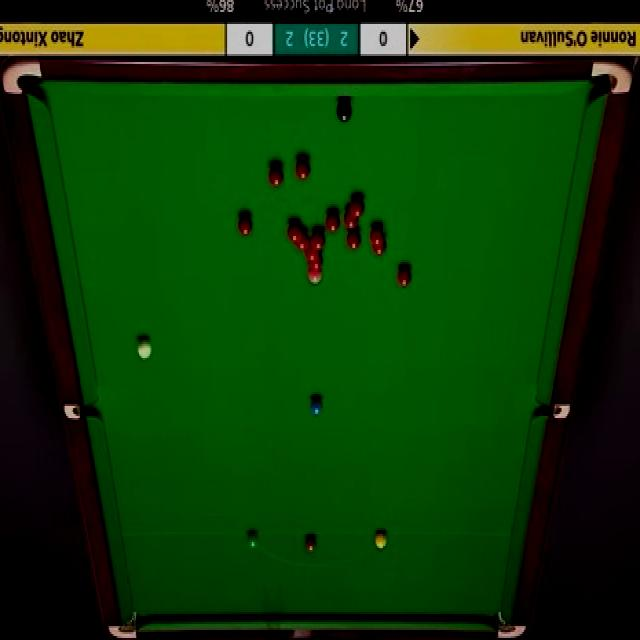black-ball: (336, 102, 354, 125)
blue-ball: (310, 398, 324, 415)
brown-ball: (305, 534, 316, 552)
green-ball: (245, 530, 260, 552)
pink-ball: (306, 269, 322, 284)
red-ball: (267, 163, 285, 189), (236, 212, 254, 235), (397, 264, 413, 288), (345, 228, 362, 250), (371, 234, 387, 256), (294, 228, 310, 250), (370, 224, 385, 247), (350, 195, 365, 218), (296, 156, 310, 180), (343, 208, 358, 229), (325, 212, 340, 232), (288, 221, 302, 242), (310, 232, 326, 250), (305, 246, 319, 262), (310, 254, 323, 270)
white-ball: (137, 337, 152, 360)
yellow-ball: (375, 530, 387, 550)
